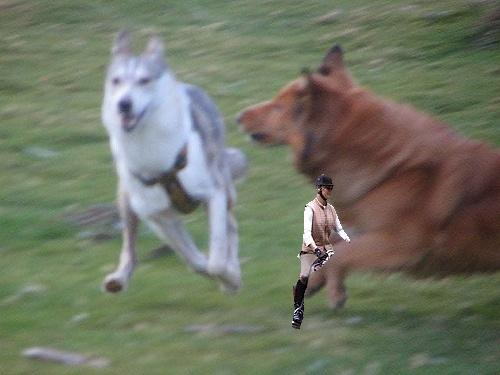tampered: (293, 175, 350, 329)
